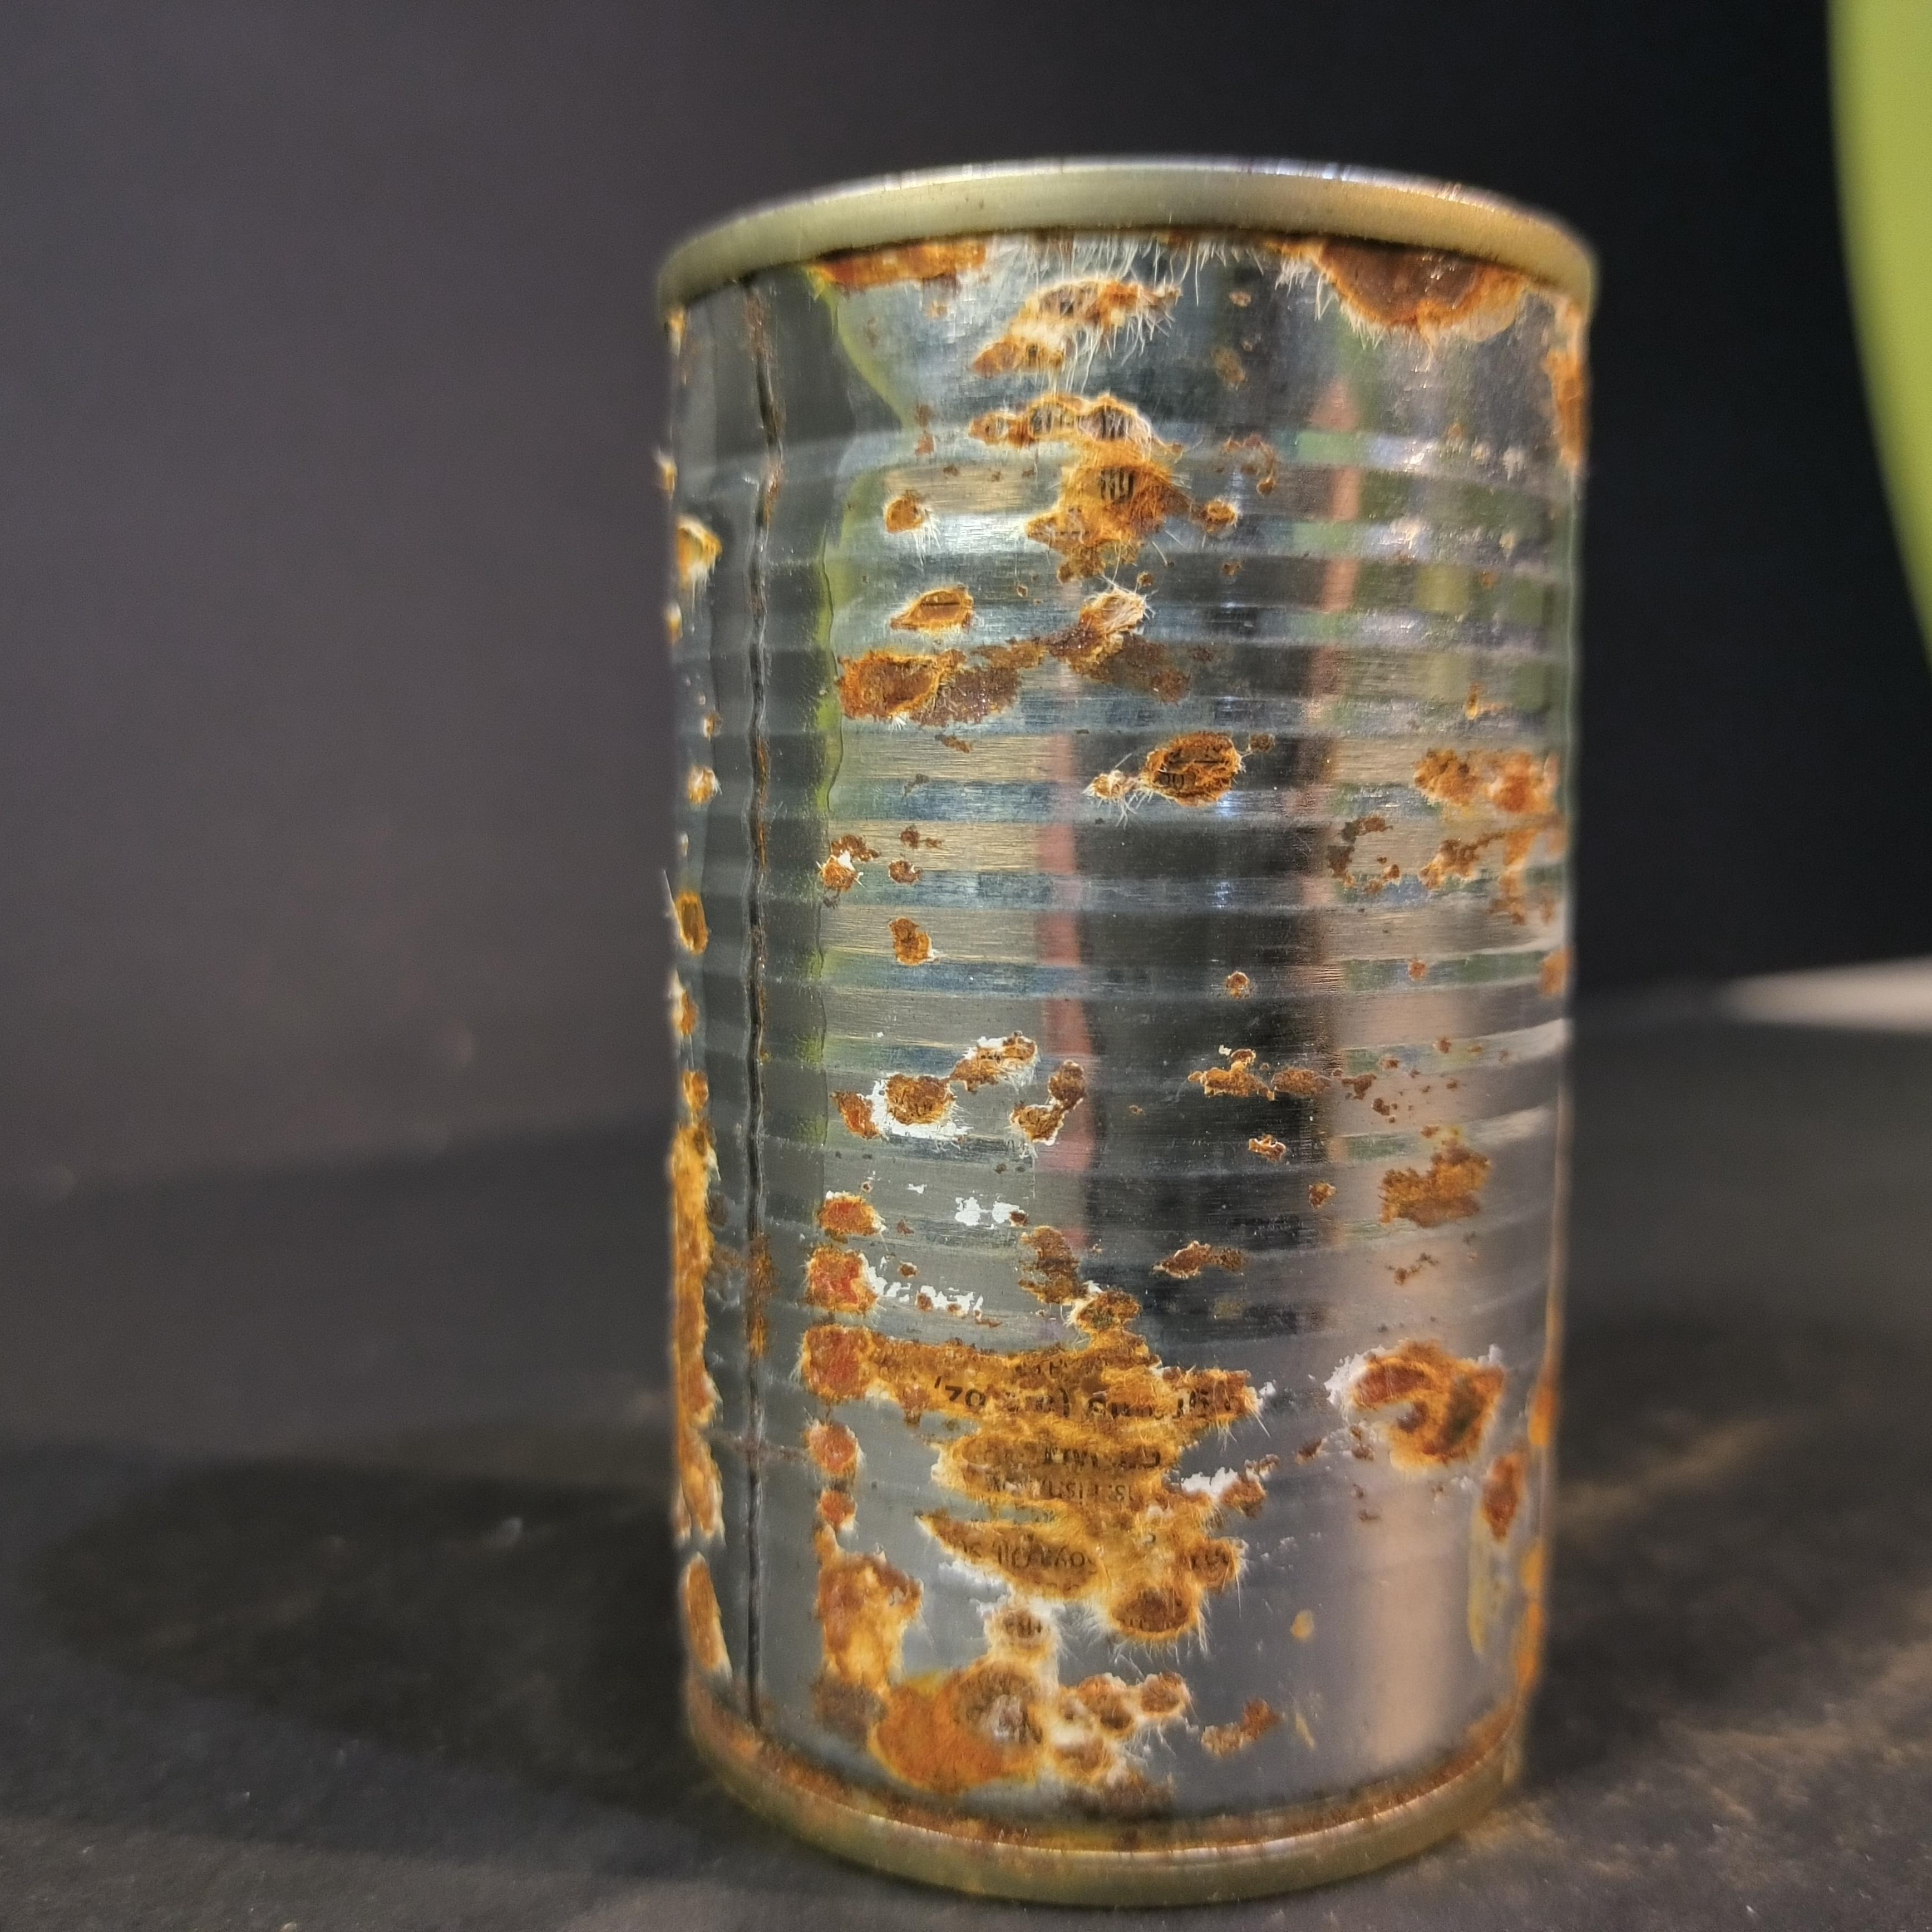Rusted: (628, 142, 1624, 1911)
